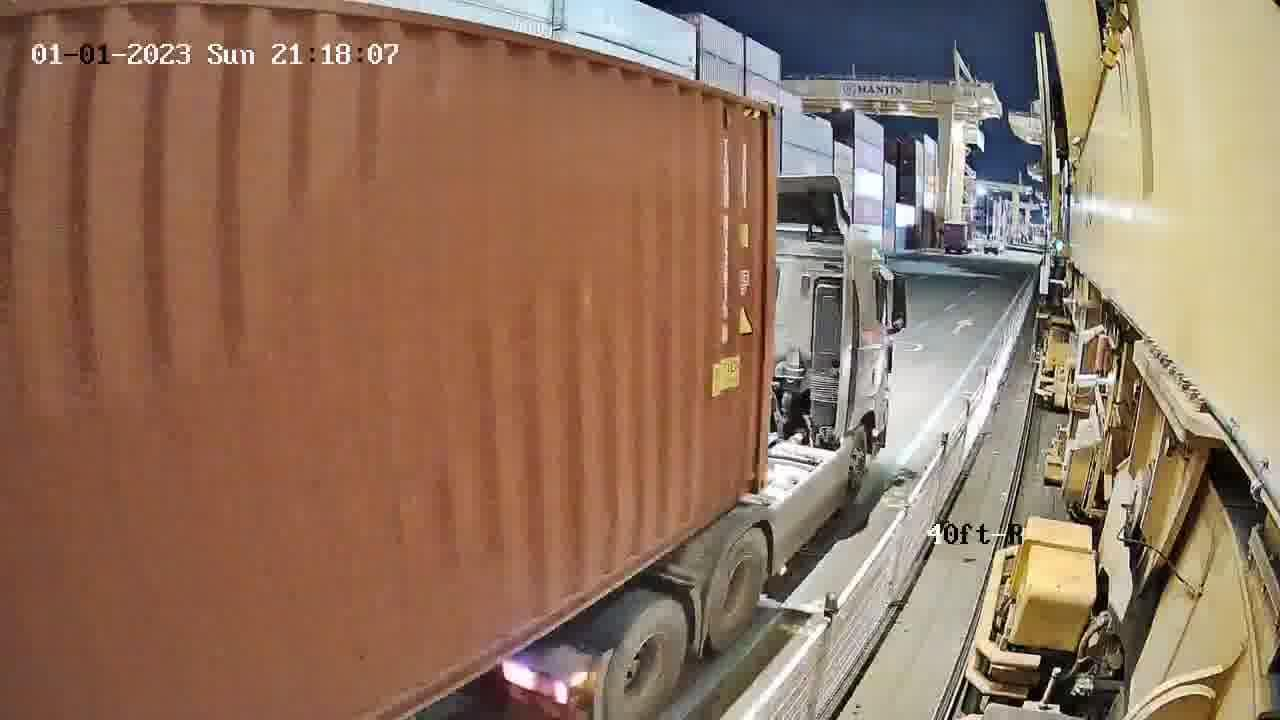Hole_L: (734, 449, 769, 505)
Tire: (605, 606, 691, 719), (705, 531, 769, 643)
